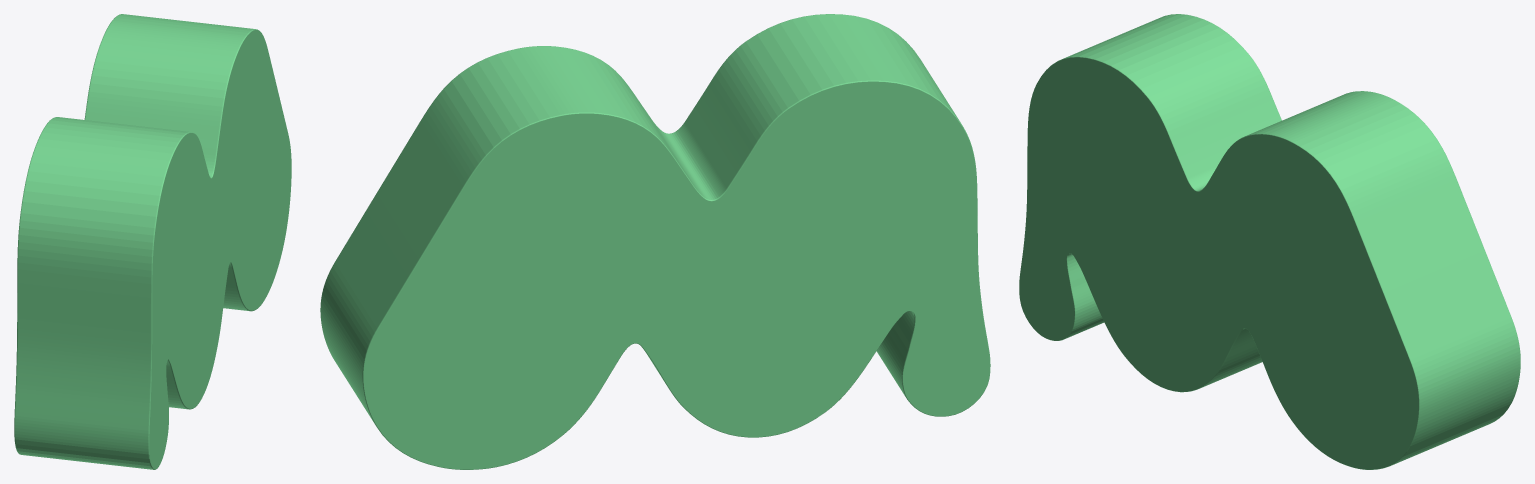
File: morhpeum.glb
3 renders of one model, left to right at view 1: azimuth 30°, elevation 25°; view 2: azimuth 150°, elevation 25°; view 3: azimuth 270°, elevation 25°, orthographic. The views are drawn at different scales.
Size of the model in its own units: 88.73 by 58.84 by 88.73.
